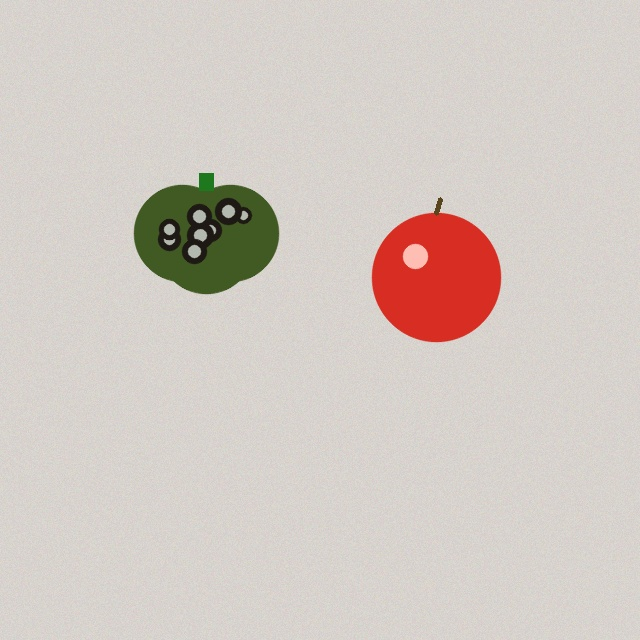Fresh apple: (372, 199, 500, 341)
Rotten bell pepper: (134, 173, 278, 293)
